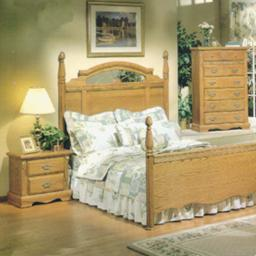Cama: (59, 67, 249, 218)
